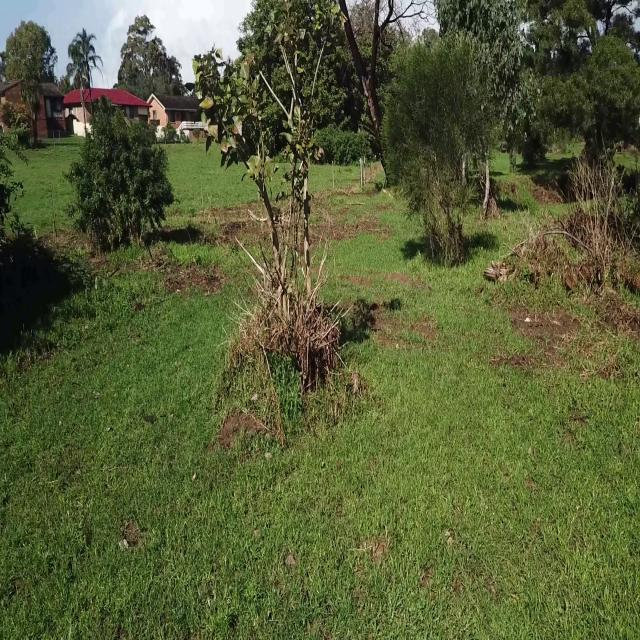Mysore-Thorn-Weed: (36, 244, 92, 302)
